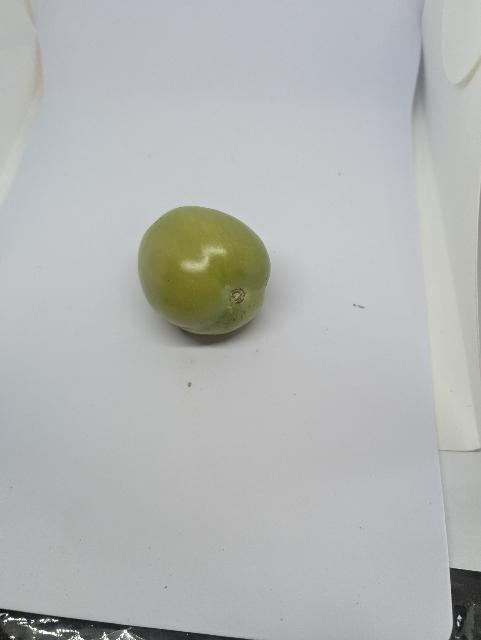green: (118, 192, 287, 348)
